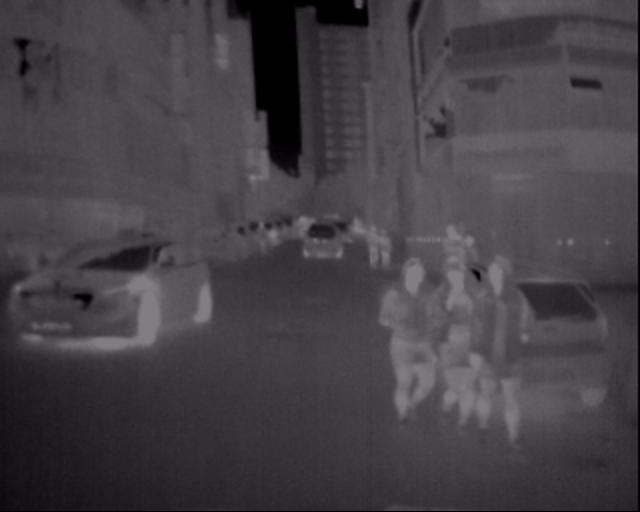person: (469, 231, 548, 470), (381, 236, 461, 452), (435, 233, 482, 446)
